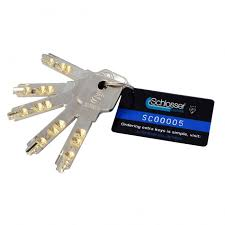kicharina: (55, 69, 127, 177)
